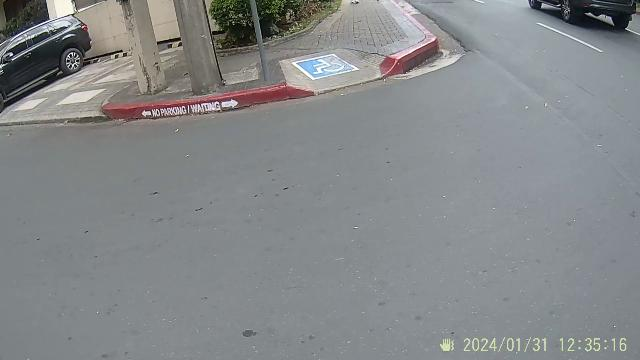car: (2, 11, 96, 105)
utility_post: (118, 1, 230, 99), (241, 0, 285, 92)
